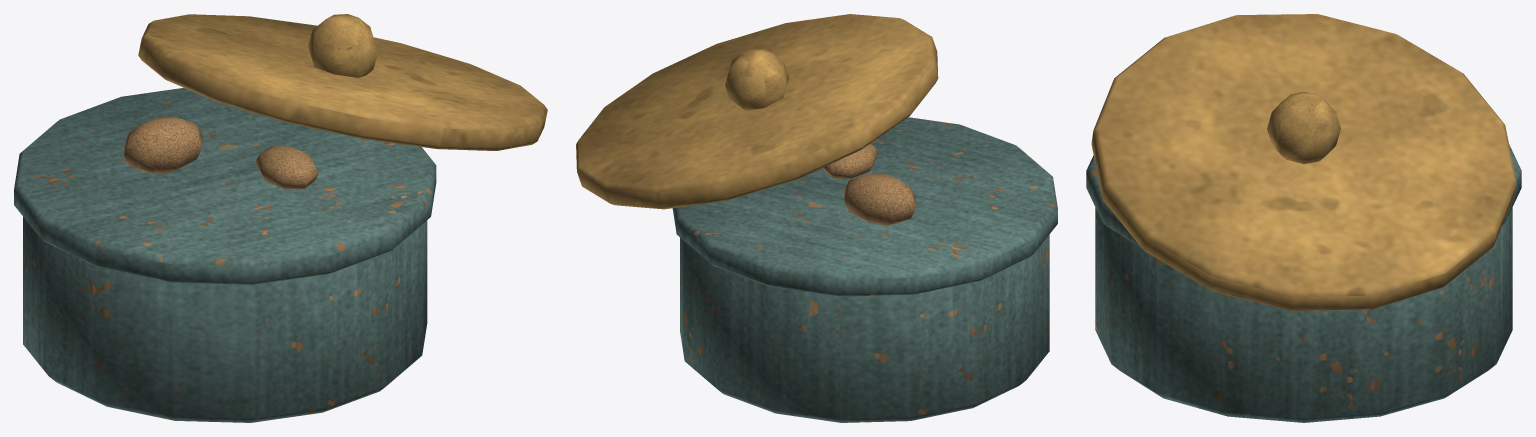
File: bait_portion.glb
The picture shows the model from 3 angles, left to right: view 1: azimuth 30°, elevation 25°; view 2: azimuth 150°, elevation 25°; view 3: azimuth 270°, elevation 25°; orthographic projection. The views are drawn at different scales.
Parts seen in each view (by area): view 1: bait_portion; view 2: bait_portion; view 3: bait_portion.
Part boxes in pixels (x1=…): bait_portion: x1=14, y1=14, x2=547, y2=422; bait_portion: x1=576, y1=14, x2=1057, y2=422; bait_portion: x1=1086, y1=14, x2=1521, y2=422.
Bounding box in the file's own units: 0.1216 × 0.0728 × 0.094.
Materials: 3 (3 with a texture image).
